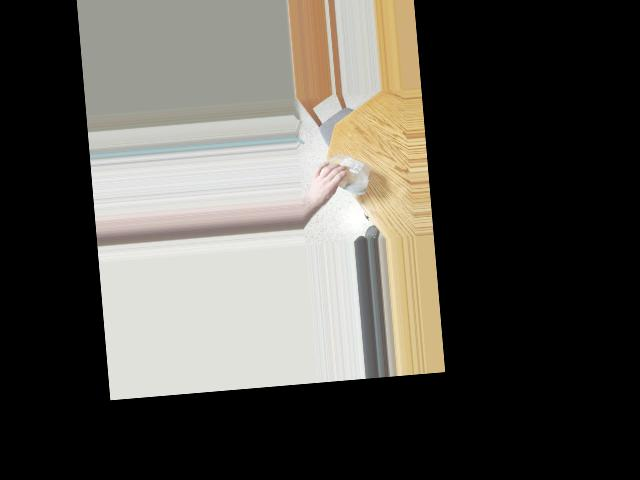cheese: (325, 154, 367, 185)
